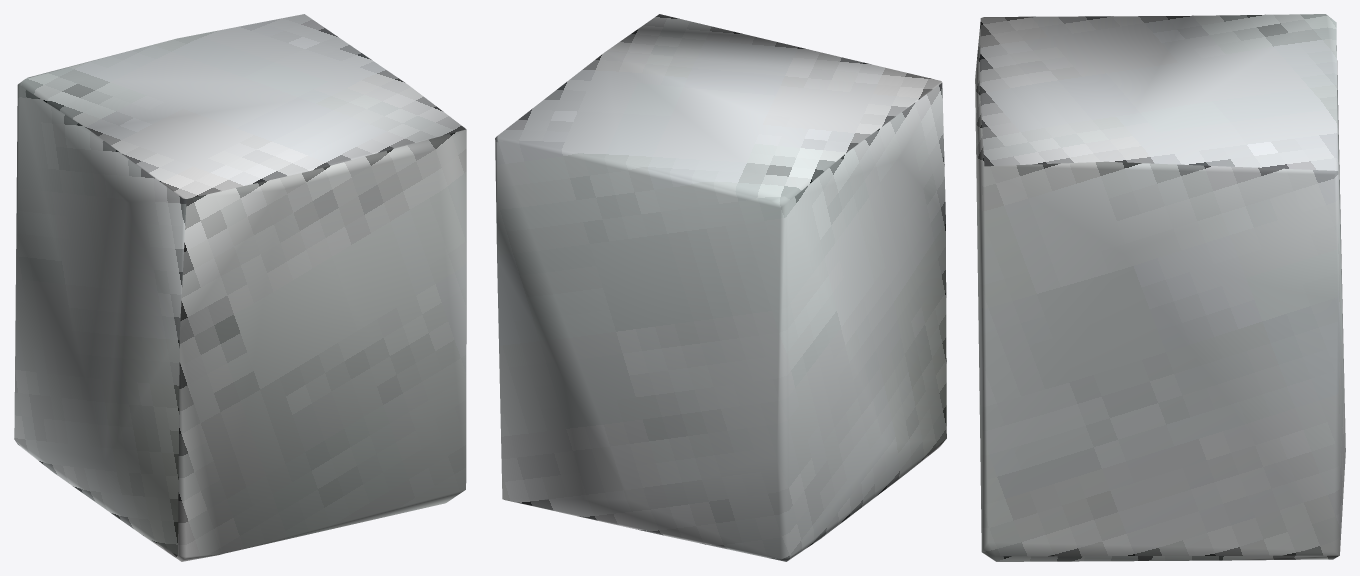
The model's file is Perricone_MD_Firming_Neck_Therapy_Treatment-low.glb.
The picture shows the model from 3 angles, left to right: view 1: azimuth 30°, elevation 25°; view 2: azimuth 150°, elevation 25°; view 3: azimuth 270°, elevation 25°; orthographic projection. The views are drawn at different scales.
Parts seen in each view (by area): view 1: Perricone_MD_Firming_Neck_Therapy_Treatment; view 2: Perricone_MD_Firming_Neck_Therapy_Treatment; view 3: Perricone_MD_Firming_Neck_Therapy_Treatment.
Part boxes in pixels (box(x1,y1,x2,y2)): Perricone_MD_Firming_Neck_Therapy_Treatment: box(14, 14, 466, 561); Perricone_MD_Firming_Neck_Therapy_Treatment: box(495, 14, 946, 561); Perricone_MD_Firming_Neck_Therapy_Treatment: box(975, 14, 1345, 561).
Bounding box in the file's own units: 0.0612 × 0.0728 × 0.0609.
Materials: 1 (1 with a texture image).
